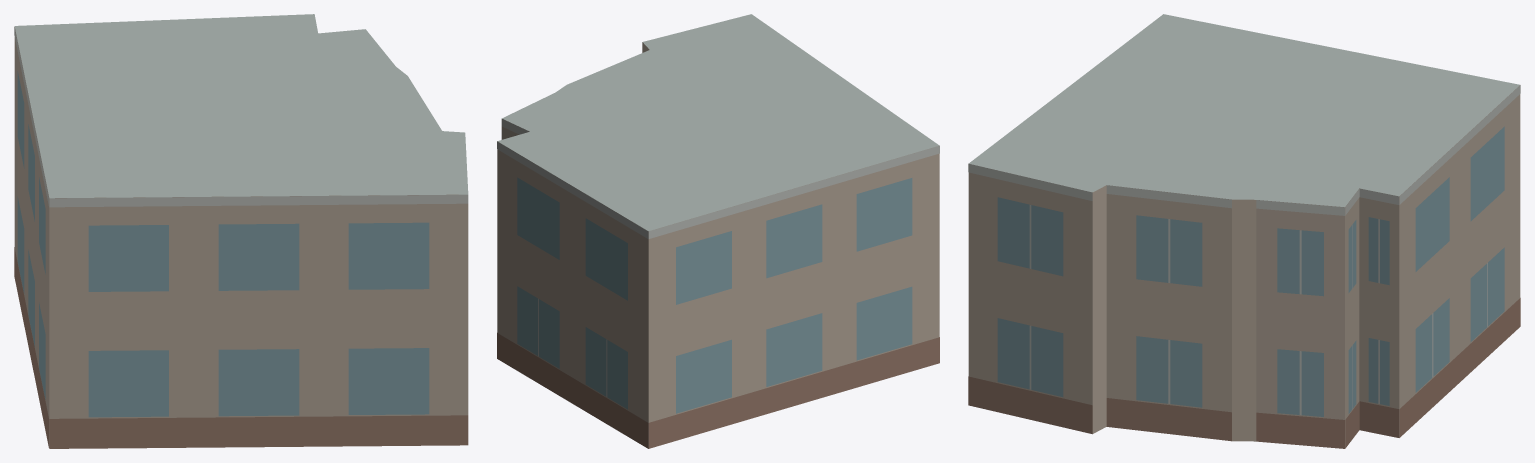
Rendered from survey-upis-32669401.glb.
3 renders of one model, left to right at view 1: azimuth 30°, elevation 25°; view 2: azimuth 150°, elevation 25°; view 3: azimuth 270°, elevation 25°, orthographic. The views are drawn at different scales.
Parts seen in each view (by area): view 1: survey-upis-32669401.tmp; view 2: survey-upis-32669401.tmp; view 3: survey-upis-32669401.tmp.
Boxes of the visible parts, <box> form: survey-upis-32669401.tmp: <box>14,14,468,448</box>; survey-upis-32669401.tmp: <box>497,14,939,448</box>; survey-upis-32669401.tmp: <box>968,14,1520,448</box>.
Size of the model in its own units: 11.49 by 6.7 by 13.88.
